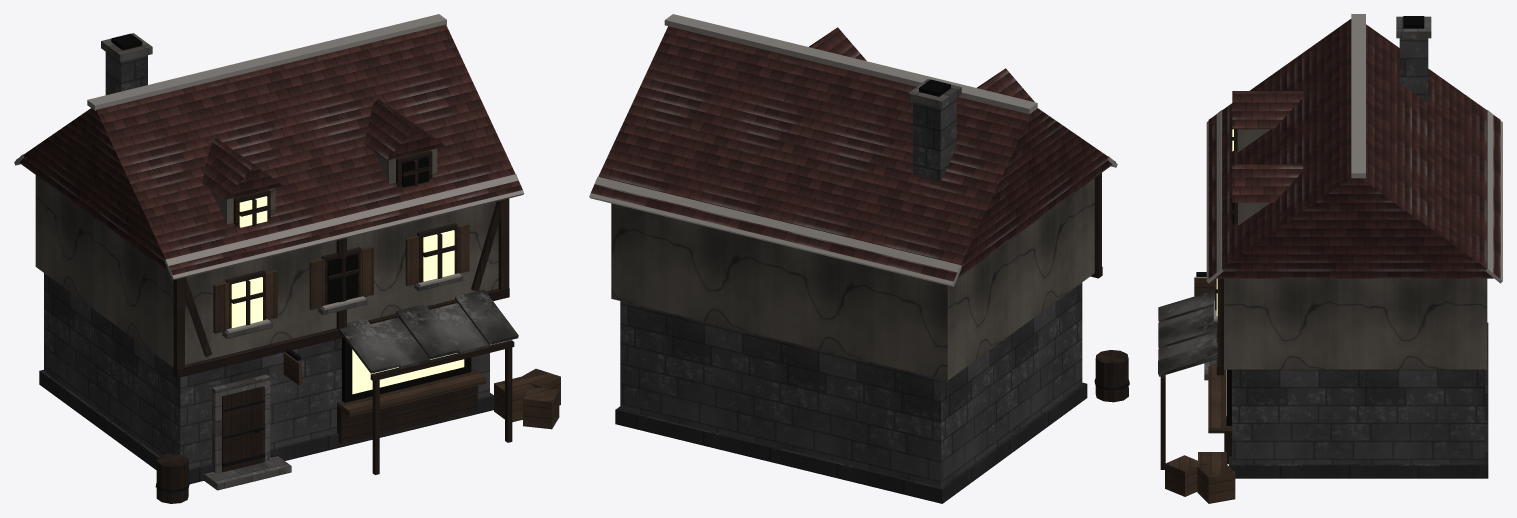
Rendered from CasaTienda.gltf.
3 views of the same model, side by side, from view 1: azimuth 30°, elevation 25°; view 2: azimuth 150°, elevation 25°; view 3: azimuth 270°, elevation 25° (orthographic). The views are drawn at different scales.
Visible parts, largest first — view 1: CasaTienda; view 2: CasaTienda; view 3: CasaTienda.
Boxes of the visible parts, box(x1,y1,x2,y2) form: CasaTienda: box(14, 14, 560, 503); CasaTienda: box(589, 14, 1129, 503); CasaTienda: box(1158, 14, 1502, 503).
Bounding box in the file's own units: 10.87 × 9.41 × 8.73.
Materials: 12 (8 with a texture image).
